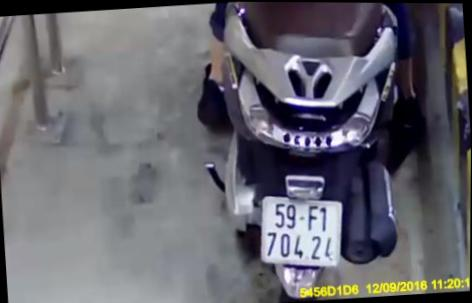LP: (258, 191, 345, 270)
